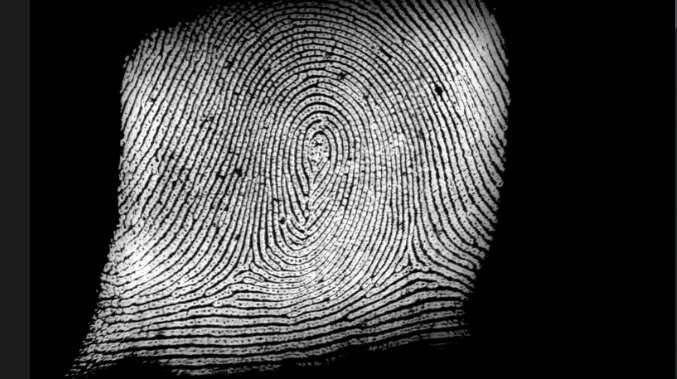deltas: (382, 227, 436, 281), (228, 229, 280, 285)
nucleo: (300, 123, 336, 165)
